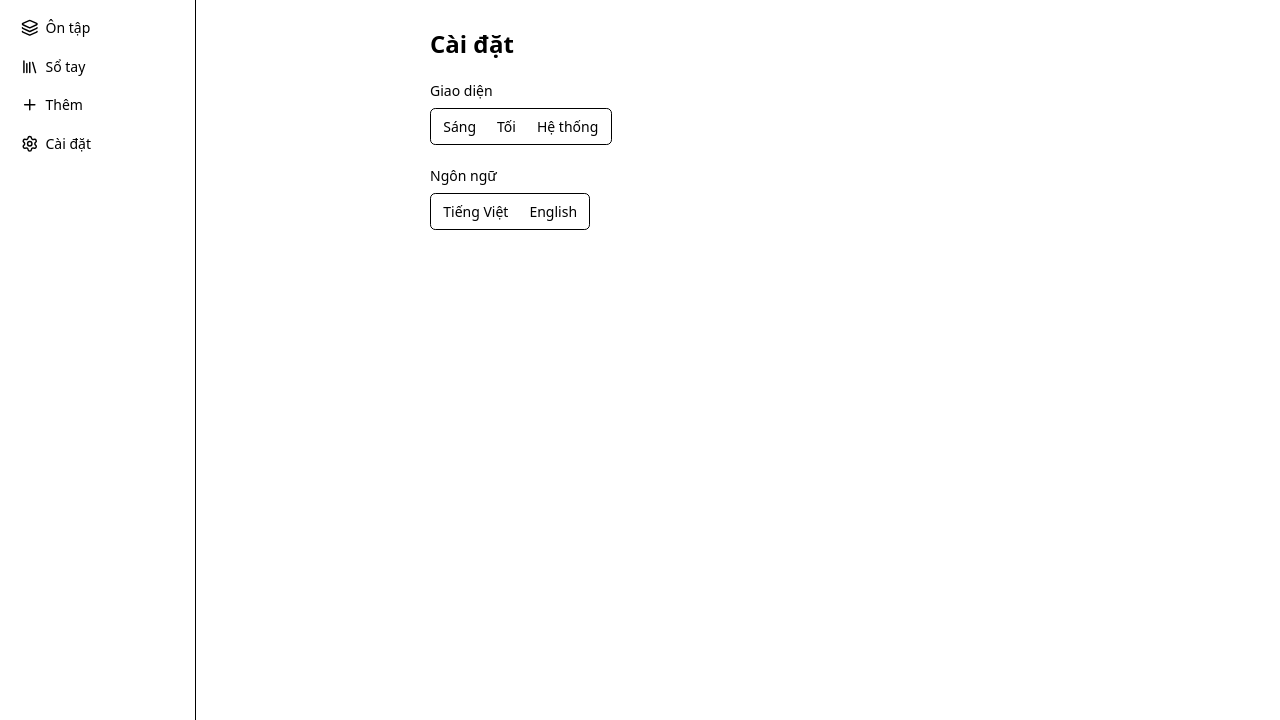
it: theme switch on /settings › sets data-theme on <html> for light and dark, and remembers it
Later steps or results of the test are not shown.
Click the button "Tối".
click(507, 127)  # box [487, 111, 526, 142]
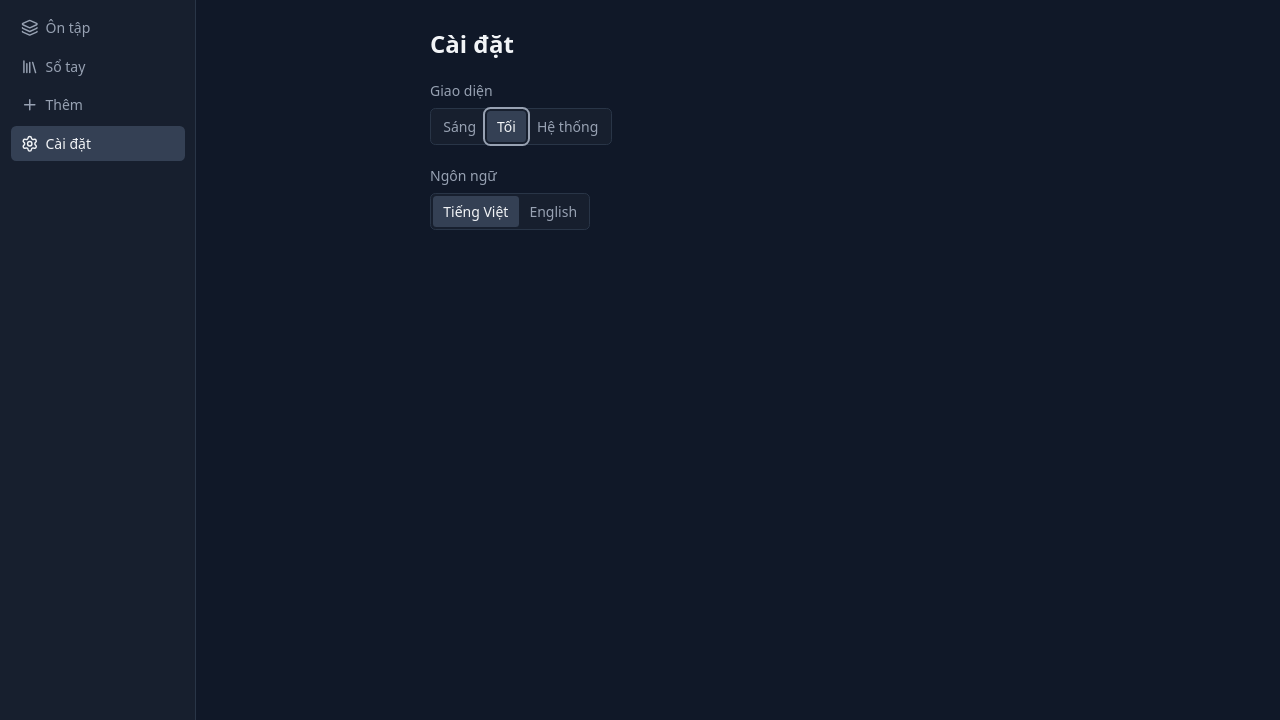
Expected: the button "Tối" is pressed, [487, 111, 526, 142]
